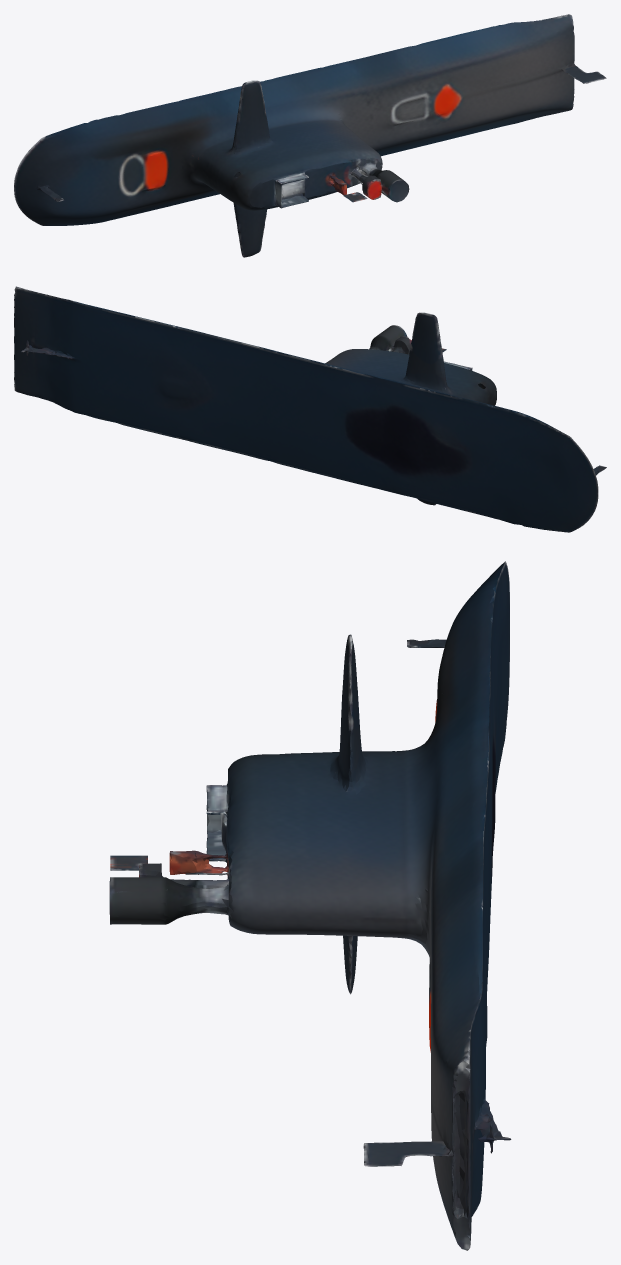
File: Type_039AB_Submarine_AI_Rodin.glb
3 renders of one model, top to bottom at view 1: azimuth 30°, elevation 25°; view 2: azimuth 150°, elevation 25°; view 3: azimuth 270°, elevation 25°, orthographic. The views are drawn at different scales.
Parts seen in each view (by area): view 1: Type_039AB_Submarine; view 2: Type_039AB_Submarine; view 3: Type_039AB_Submarine.
Boxes of the visible parts, x1,y1,x2,y2 form: Type_039AB_Submarine: (14, 14, 606, 257); Type_039AB_Submarine: (14, 286, 606, 532); Type_039AB_Submarine: (109, 561, 511, 1250).
Bounding box in the file's own units: 1.9 × 0.5707 × 0.5934.
Materials: 1 (1 with a texture image).
